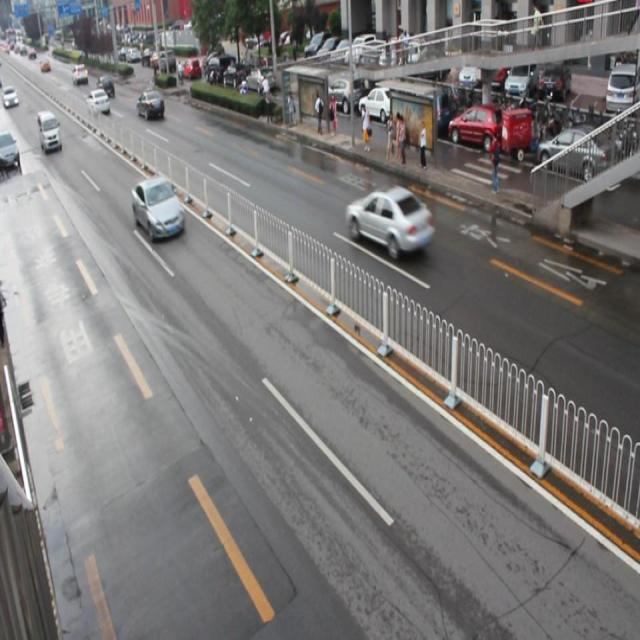car: (345, 183, 432, 256), (131, 175, 185, 238), (136, 88, 166, 119)
